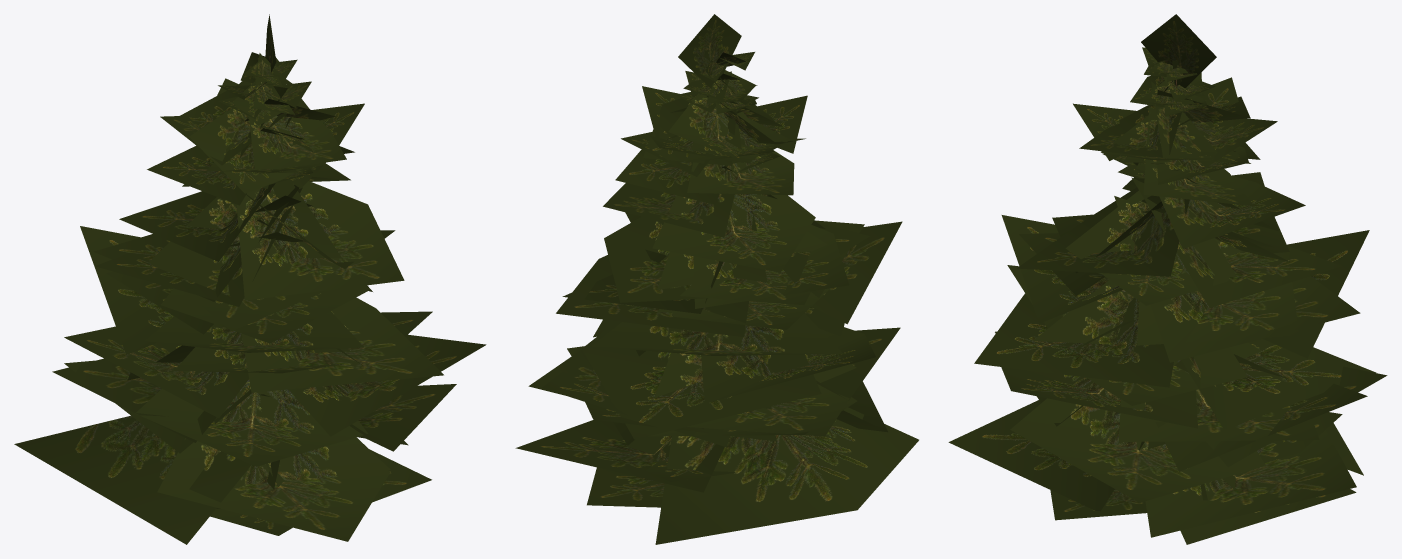
The model's file is pine.glb.
3 renders of one model, left to right at view 1: azimuth 30°, elevation 25°; view 2: azimuth 150°, elevation 25°; view 3: azimuth 270°, elevation 25°, orthographic. The views are drawn at different scales.
Visible parts, largest first — view 1: tree pine joined; view 2: tree pine joined; view 3: tree pine joined.
Part boxes in pixels (<box>): tree pine joined: <box>14,14,486,544</box>; tree pine joined: <box>515,14,918,544</box>; tree pine joined: <box>948,14,1387,544</box>.
Size of the model in its own units: 3.96 by 4.83 by 4.
2 materials, 2 textured.
